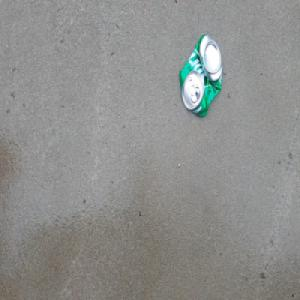SodaCan: (177, 32, 223, 118)
